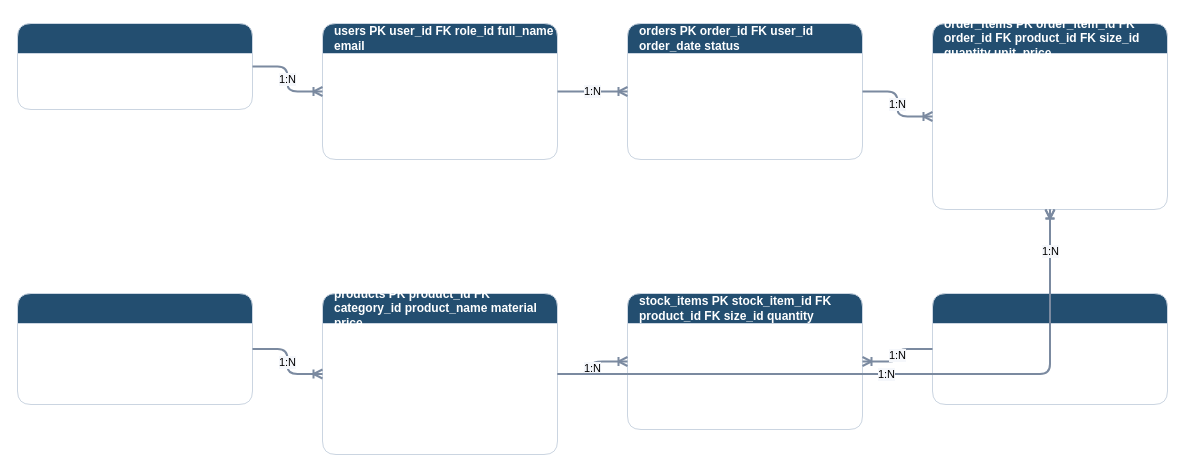
Image size: 1185x472. Some labels were removed from this diagram. Each missing label, with the centre of its shape:
"categories PK category_id name description" goes at point (134, 348).
"roles PK role_id role_name" goes at point (134, 66).
"sizes PK size_id size_name dimensions" goes at point (1050, 348).
